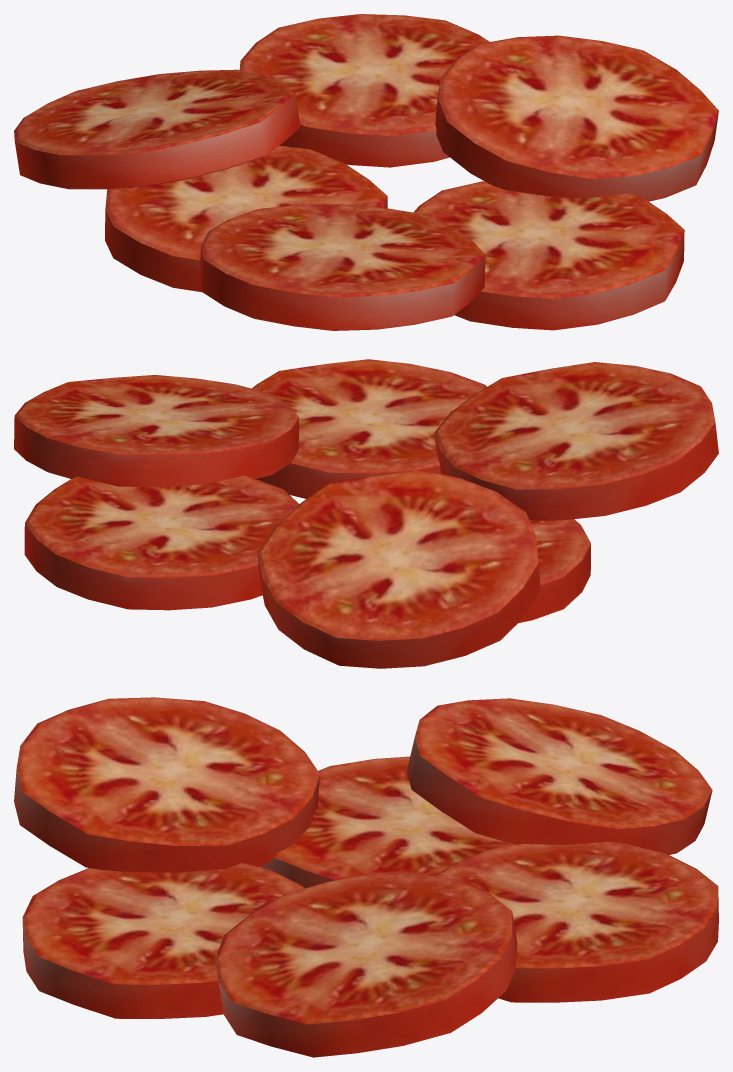
File: tomato-cut.glb
The picture shows the model from 3 angles, top to bottom: view 1: azimuth 30°, elevation 25°; view 2: azimuth 150°, elevation 25°; view 3: azimuth 270°, elevation 25°; orthographic projection. The views are drawn at different scales.
Visible parts, largest first — view 1: pCylinder19_9; view 2: pCylinder19_9; view 3: pCylinder19_9.
Boxes of the visible parts, <box> form: pCylinder19_9: <box>14,14,718,330</box>; pCylinder19_9: <box>14,359,718,668</box>; pCylinder19_9: <box>14,697,718,1057</box>.
Bounding box in the file's own units: 0.993 × 0.18 × 0.9781.
Materials: 2 (2 with a texture image).
